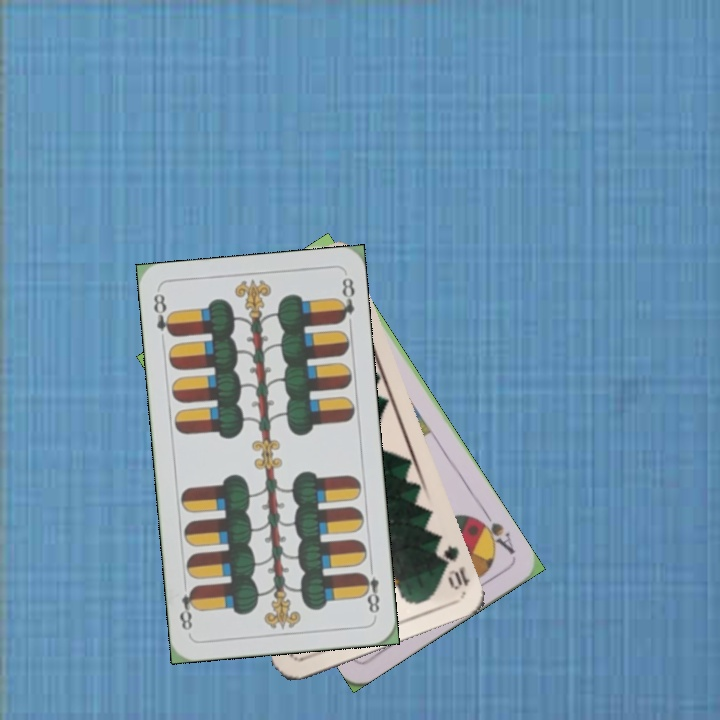E8: (357, 560, 382, 616), (150, 290, 177, 339)
G10: (435, 541, 472, 593)
SA: (471, 506, 518, 557)
